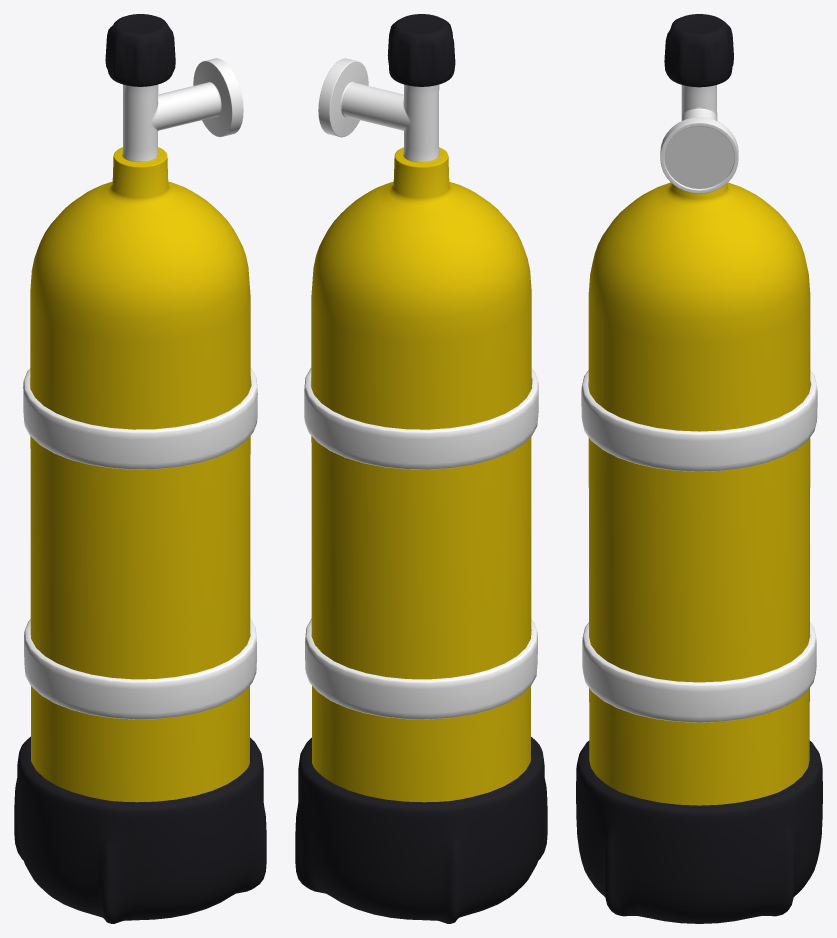
Rendered from SM_OxygenTank.fbx.
3 renders of one model, left to right at view 1: azimuth 30°, elevation 25°; view 2: azimuth 150°, elevation 25°; view 3: azimuth 270°, elevation 25°, orthographic.
Visible parts, largest first — view 1: SM_OxygenTank_01_temp; view 2: SM_OxygenTank_01_temp; view 3: SM_OxygenTank_01_temp.
Part boxes in pixels (x1,y1,x2,y2): SM_OxygenTank_01_temp: (14, 14, 266, 923); SM_OxygenTank_01_temp: (295, 14, 547, 923); SM_OxygenTank_01_temp: (576, 14, 822, 923).
Bounding box in the file's own units: 12.76 × 49.17 × 12.76.
